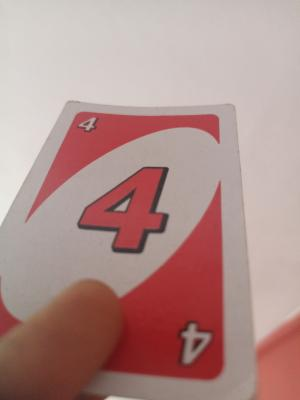num_4: (170, 312, 219, 369), (73, 113, 103, 137)
